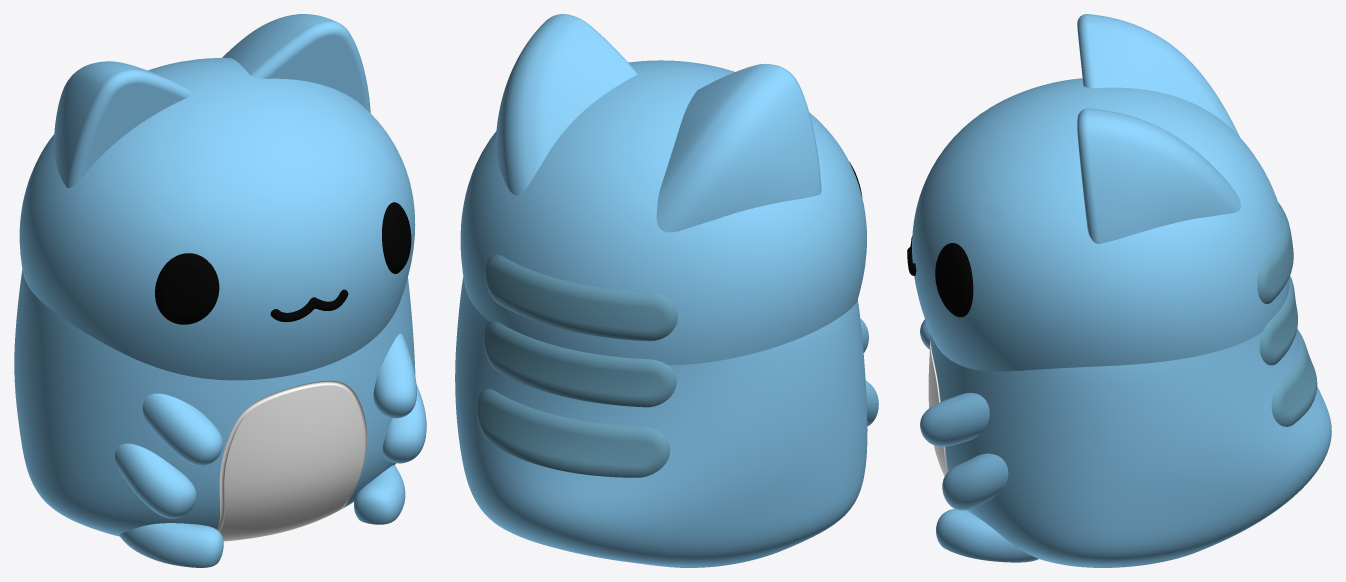
Rendered from capoo (1).glb.
3 renders of one model, left to right at view 1: azimuth 30°, elevation 25°; view 2: azimuth 150°, elevation 25°; view 3: azimuth 270°, elevation 25°, orthographic. The views are drawn at different scales.
Parts seen in each view (by area): view 1: capooobjcleanermaterialmergergles; view 2: capooobjcleanermaterialmergergles; view 3: capooobjcleanermaterialmergergles.
Boxes of the visible parts, left/top/right/bottom form: capooobjcleanermaterialmergergles: left=14, top=14, right=426, bottom=567; capooobjcleanermaterialmergergles: left=455, top=14, right=878, bottom=567; capooobjcleanermaterialmergergles: left=907, top=14, right=1331, bottom=567.
Bounding box in the file's own units: 41.71 × 49.76 × 43.91.
